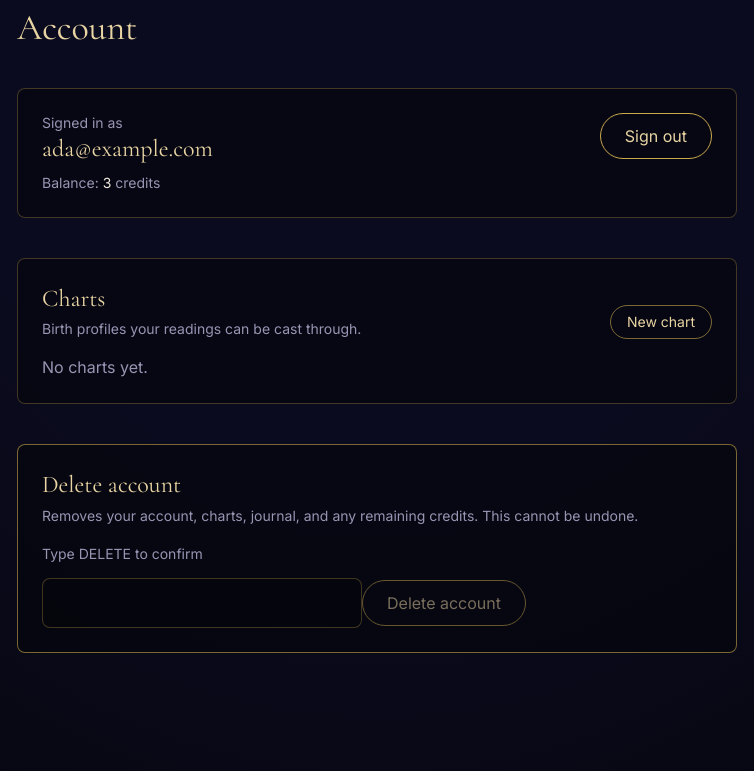
Test: delete account requires typing DELETE and then re-bootstraps anonymously
Expected: the text "ada@example.com" is shown, top-left (42, 133), bottom-right (213, 165)
Expected: the button "Delete account" is disabled, top-left (362, 580), bottom-right (526, 626)
In the field labelled "Type DELETE to confirm": (202, 603) top-left (42, 578), bottom-right (362, 628), type "delete"
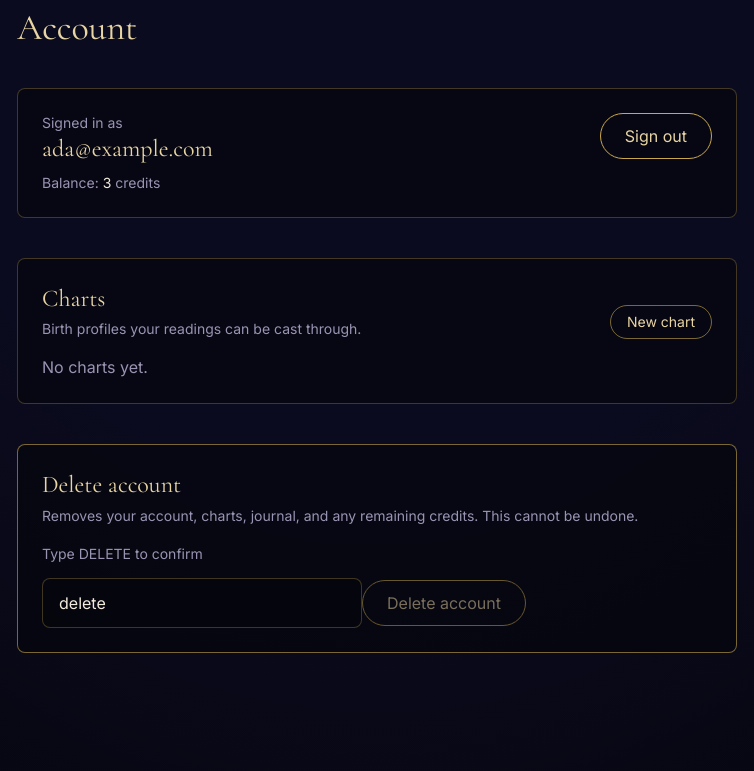
Expected: the button "Delete account" is disabled, top-left (362, 580), bottom-right (526, 626)
Replace the text in the field labelled "Type DELETE to confirm" with "DELETE": (202, 603) top-left (42, 578), bottom-right (362, 628)
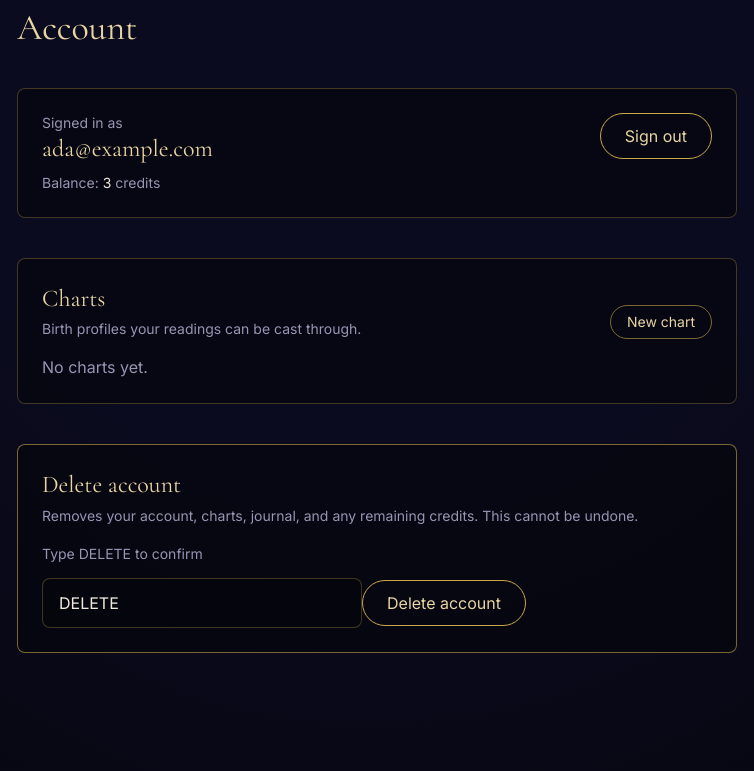
Expected: the button "Delete account" is enabled
Click the button "Delete account": click(444, 603) top-left (362, 580), bottom-right (526, 626)
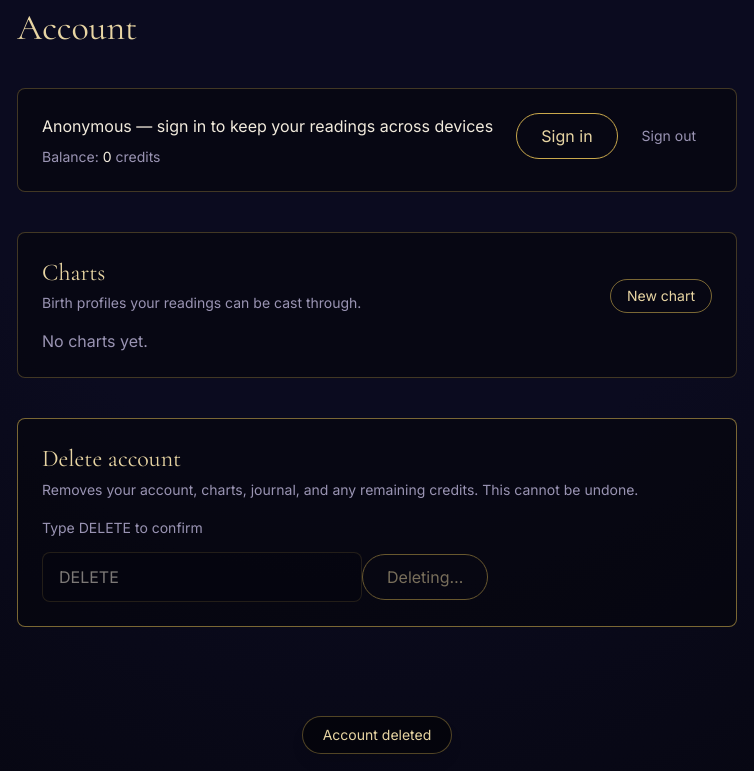
Expected: the text "Account deleted" is shown, top-left (302, 716), bottom-right (452, 754)
